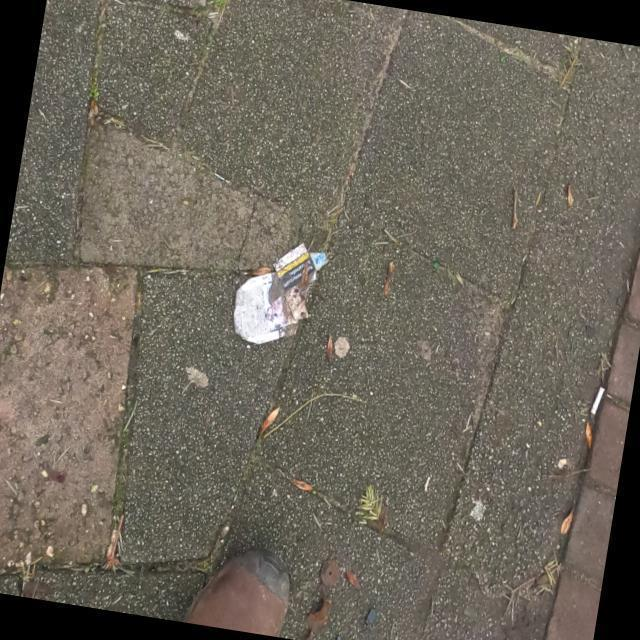Paper: (232, 241, 331, 346)
